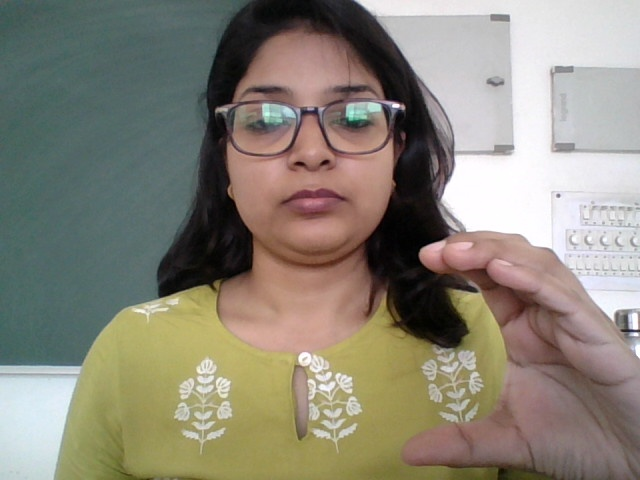C: (405, 223, 630, 480)
